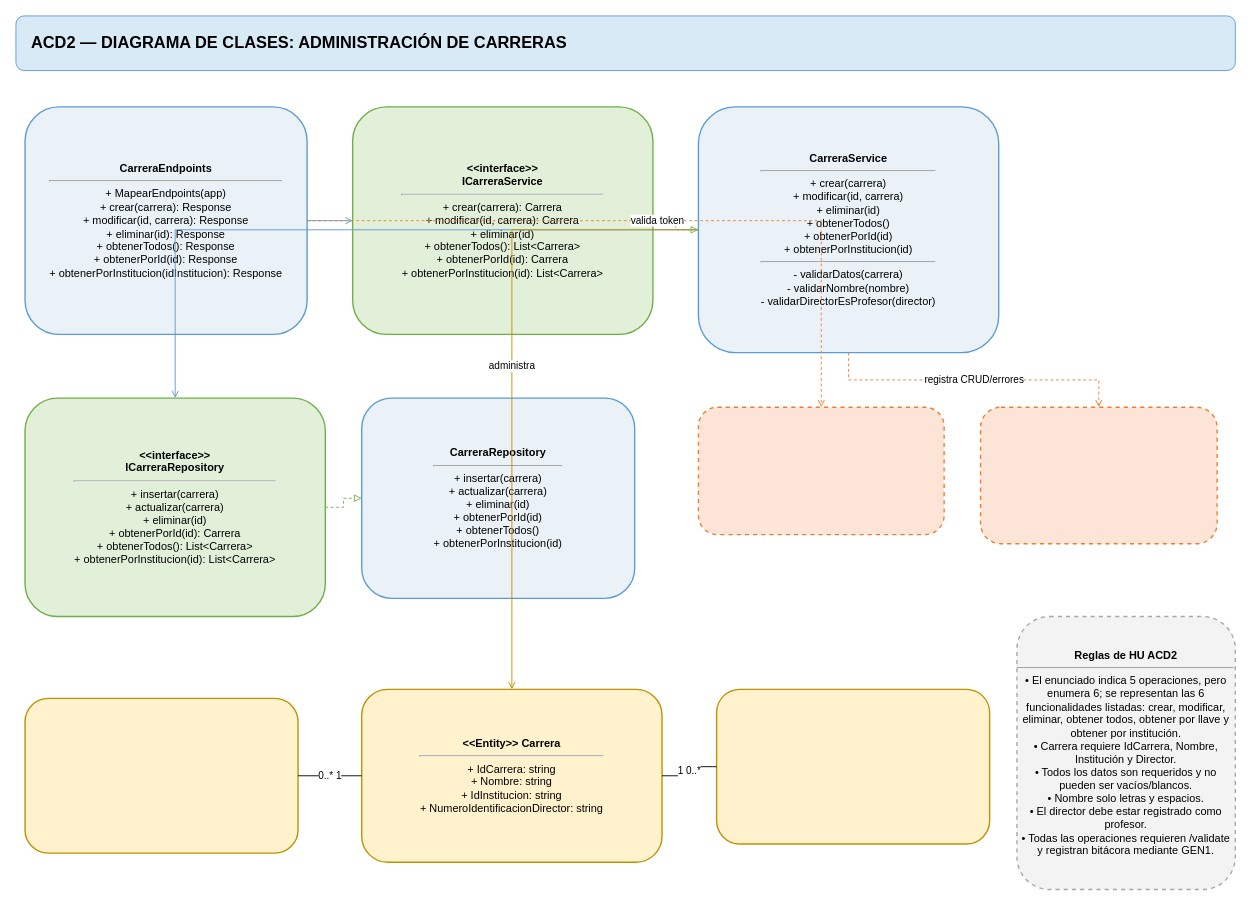
This 1252x906 diagram has some shape labels left out. Here are the shapes that lost their labels. From the top down, the centre of each, then its label:
At (x=820, y=470): "<<externo>> ITokenValidator + validar(token): bool USR5 — /validate".
At (x=1098, y=475): "<<externo>> IBitacoraClient + registrar(usuario, descripcion) GEN1 — /bitacora".
At (x=161, y=775): "<<Entity>> Institucion + IdInstitucion: string + Nombre: string ACD1".
At (x=853, y=766): "<<Entity>> Profesor + NumeroIdentificacion: string + NombreCompleto: string ACD6".
